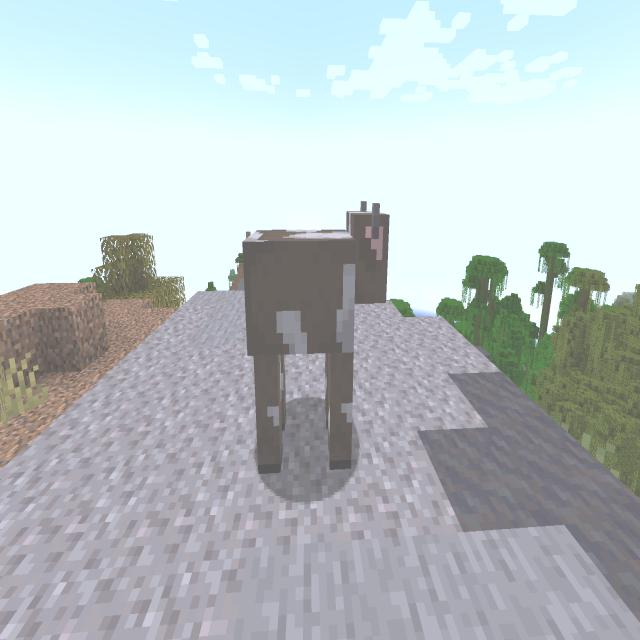cow: (230, 188, 398, 492)
